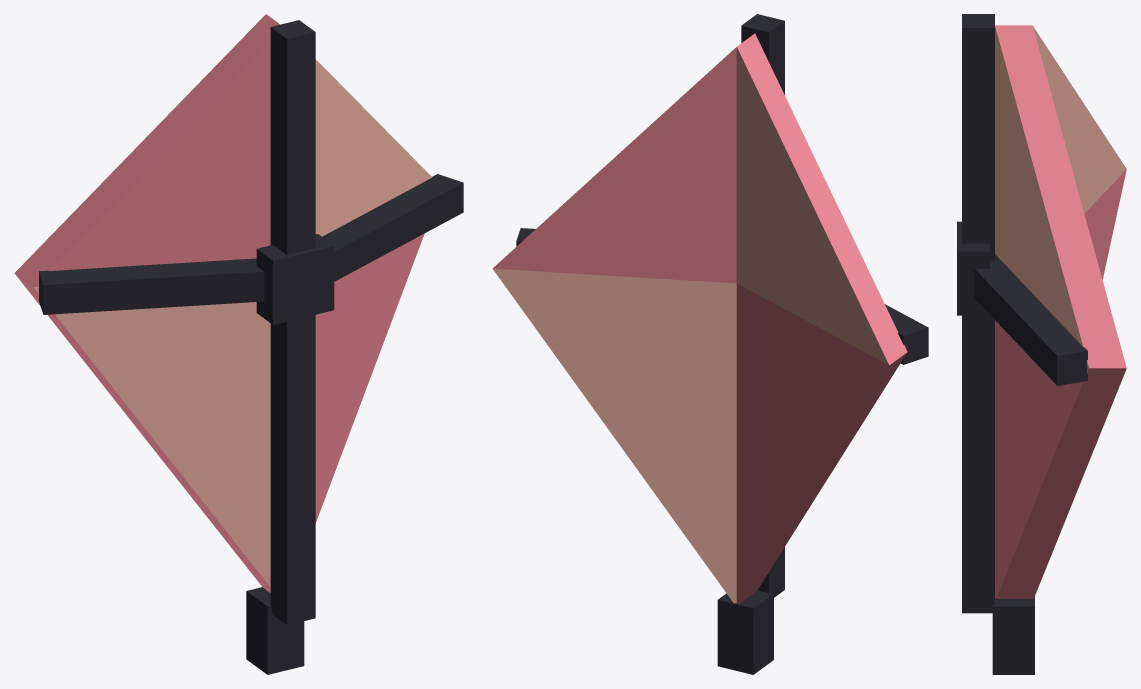
File: kite.glb
3 views of the same model, side by side, from view 1: azimuth 30°, elevation 25°; view 2: azimuth 150°, elevation 25°; view 3: azimuth 270°, elevation 25° (orthographic). The views are drawn at different scales.
Parts seen in each view (by area): view 1: Kite; view 2: Kite; view 3: Kite.
Part boxes in pixels (x1=…): Kite: x1=14, y1=14, x2=463, y2=674; Kite: x1=492, y1=14, x2=928, y2=674; Kite: x1=957, y1=14, x2=1126, y2=674.
Bounding box in the file's own units: 1.03 × 1.51 × 0.36.
